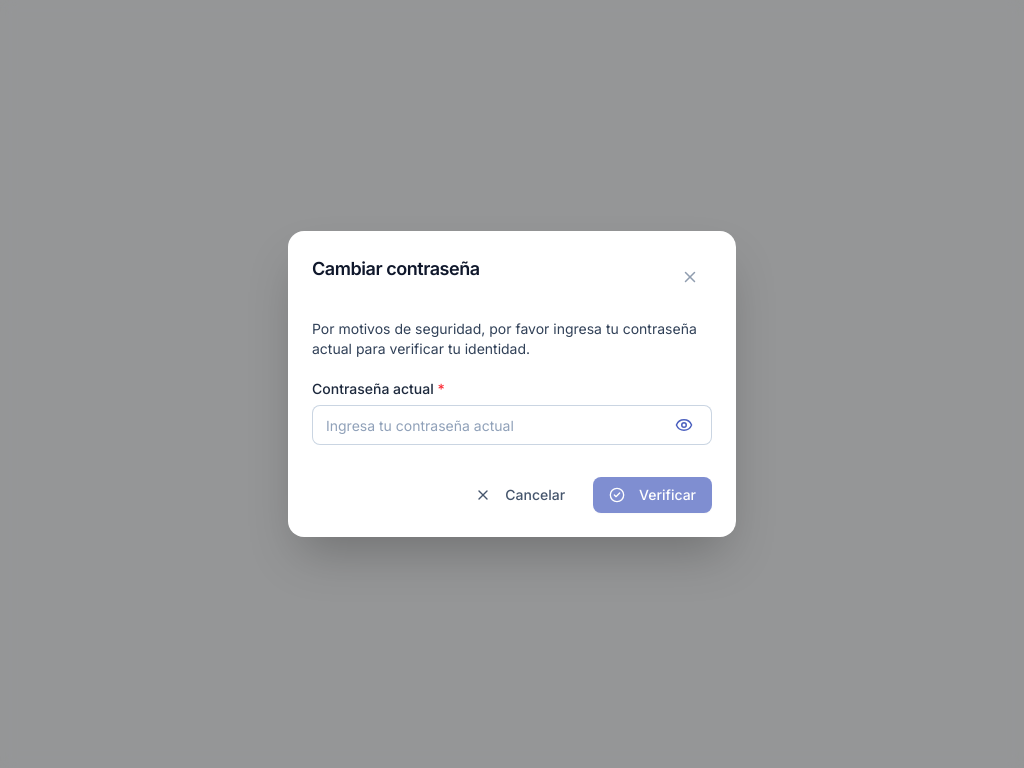
it: ModalCambiarClave › muestra error en paso 1 si la contraseña actual es rechazada y permite cerrarlo
This screenshot has width=1024, height=768.
Type "MiClave123" into the password field with placeholder "Ingresa tu contraseña actual" at (512, 425), box 312,405 -> 712,445
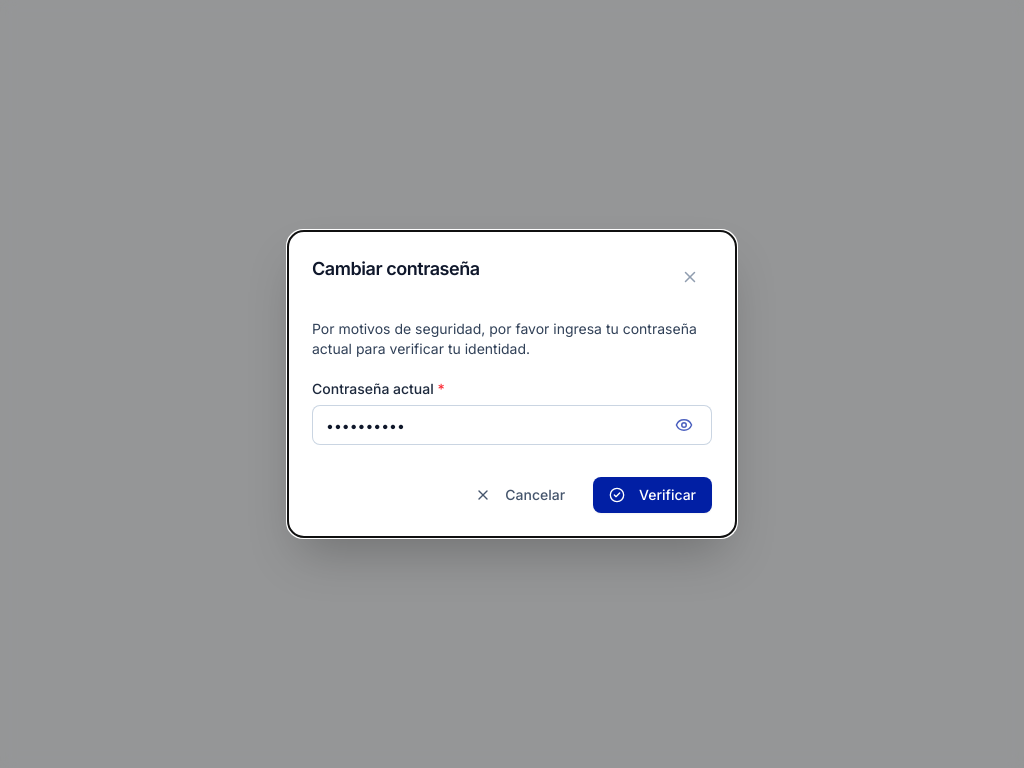
Submit the form, box 312,319 -> 712,513
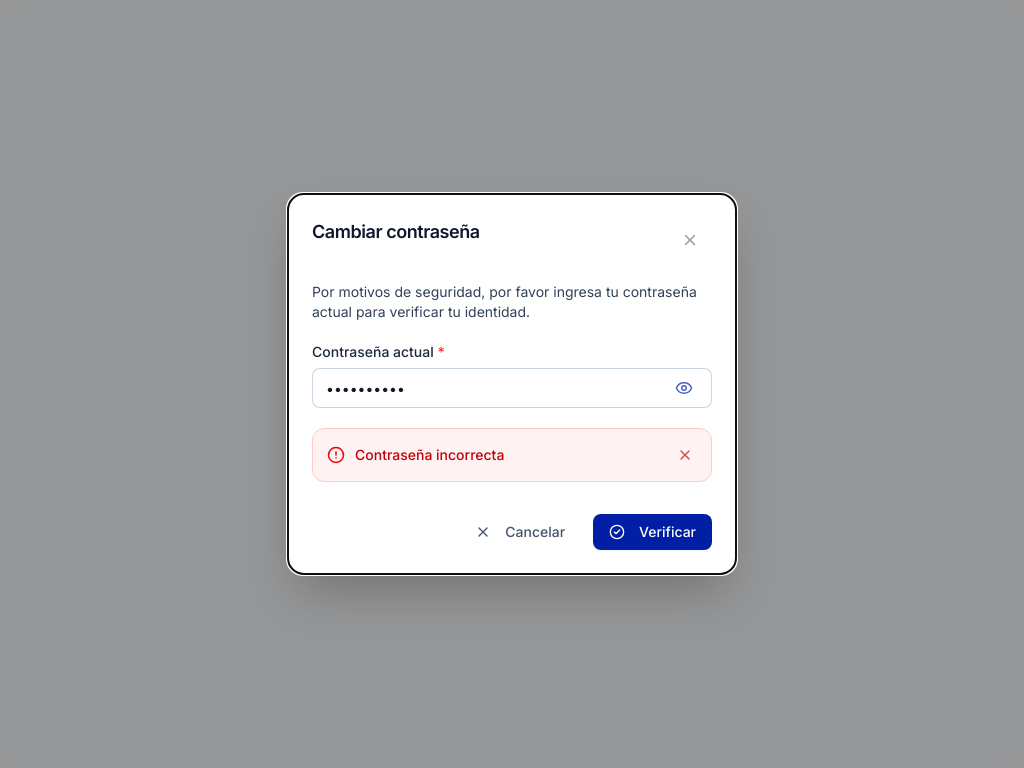
Result: the text "Contraseña incorrecta" is shown at 355,445 -> 504,465
Click the button named "Cerrar notificación" at (685, 455), box 673,443 -> 697,467
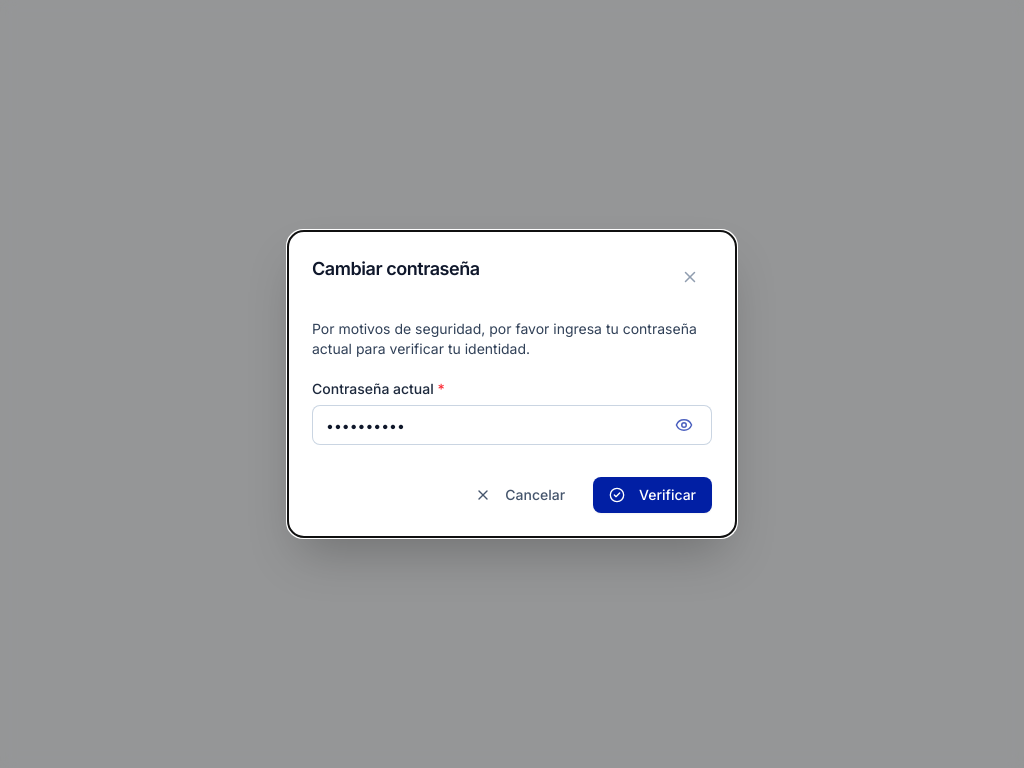
Result: the text "Contraseña incorrecta" is gone
